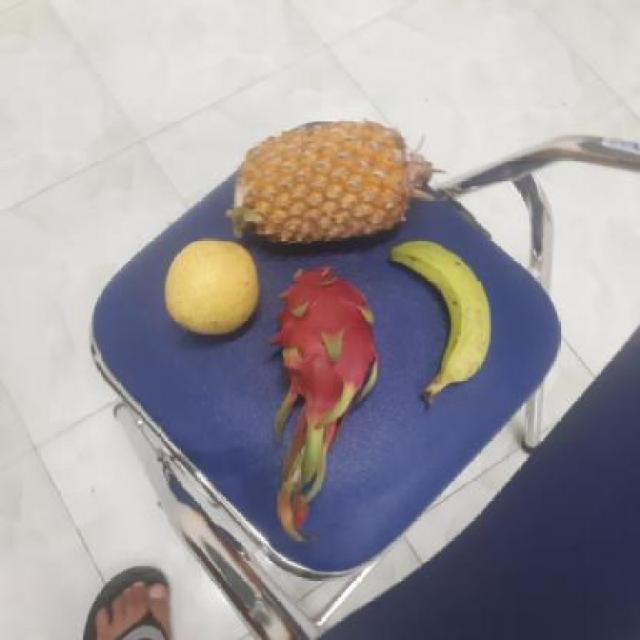banana: (389, 238, 493, 384)
dragon fruit: (261, 264, 378, 415)
pear: (158, 240, 261, 338)
pineapple: (228, 120, 422, 252)
